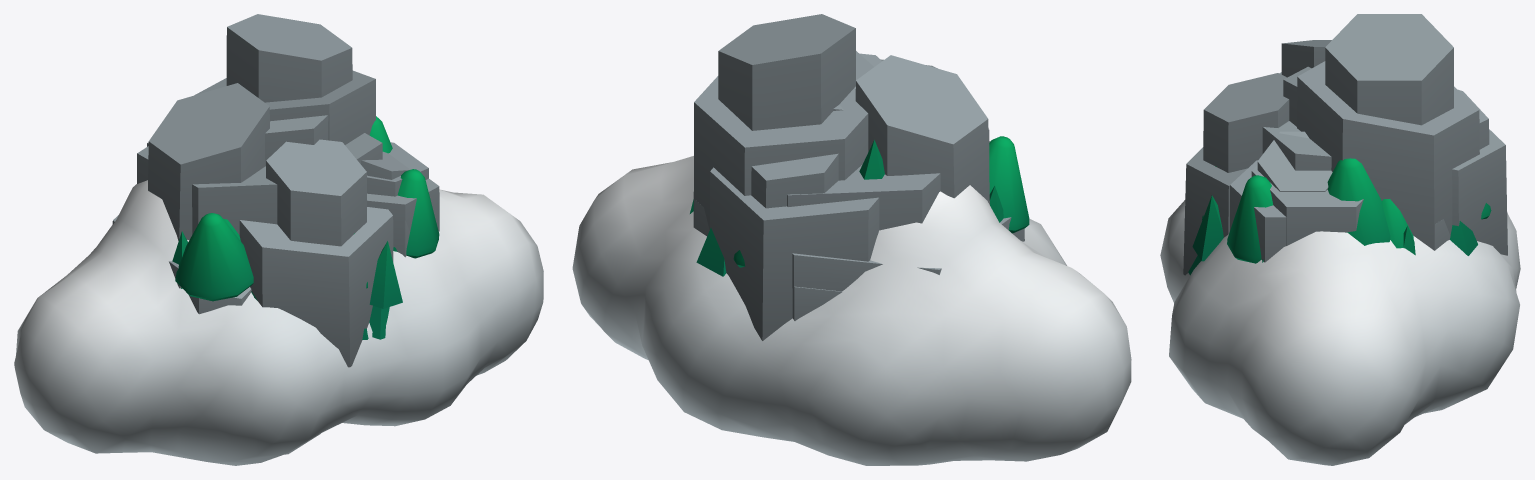
Rendered from nature.glb.
The picture shows the model from 3 angles, left to right: view 1: azimuth 30°, elevation 25°; view 2: azimuth 150°, elevation 25°; view 3: azimuth 270°, elevation 25°; orthographic projection. The views are drawn at different scales.
Visible parts, largest first — view 1: cloud_big, mountain_C, mountain_B, mountain_A, trees_B_large, trees_A_large; view 2: cloud_big, mountain_C, mountain_B, mountain_A, trees_B_large, trees_A_large, trees_A_medium; view 3: cloud_big, mountain_B, mountain_C, mountain_A, trees_B_large, trees_B_medium, trees_A_large.
Boxes of the visible parts, box(x1,y1,x2,y2) form: cloud_big: box(14, 180, 543, 465); mountain_C: box(147, 83, 410, 367); mountain_B: box(112, 14, 428, 288); mountain_A: box(137, 115, 439, 256); trees_B_large: box(175, 169, 439, 301); trees_A_large: box(172, 231, 402, 339); cloud_big: box(572, 156, 1131, 465); mountain_C: box(710, 55, 1024, 340); mountain_B: box(693, 14, 1012, 320); mountain_A: box(694, 53, 989, 320); trees_B_large: box(989, 136, 1029, 233); trees_A_large: box(690, 185, 1003, 276); trees_A_medium: box(859, 140, 884, 179); cloud_big: box(1160, 200, 1520, 465); mountain_B: box(1251, 14, 1479, 250); mountain_C: box(1183, 40, 1507, 275); mountain_A: box(1230, 66, 1450, 262); trees_B_large: box(1202, 166, 1413, 263); trees_B_medium: box(1327, 158, 1491, 245); trees_A_large: box(1188, 195, 1477, 275).
Size of the model in its own units: 3.61 by 2.68 by 2.24.
1 material, 1 textured.
